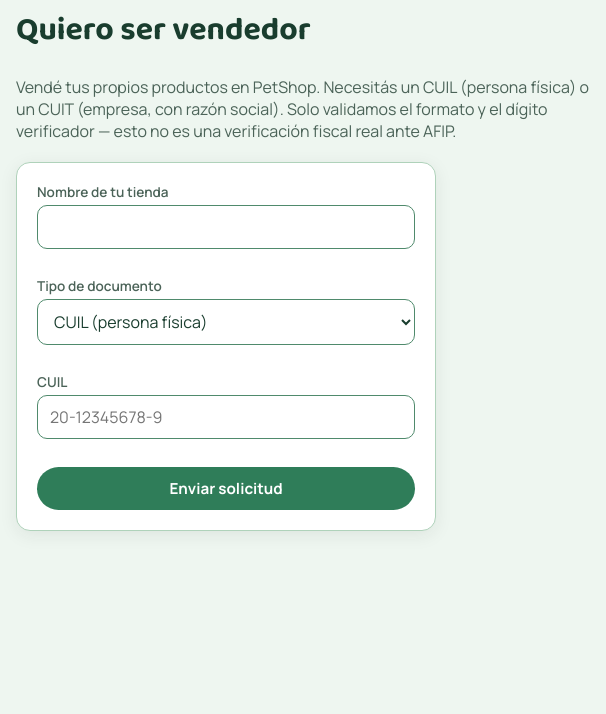
Test case: SolicitudVendedor › si el backend rechaza (CUIL inválido), muestra el error sin navegar
The width and height of the screenshot is (606, 714).
Step 1. Type "Tienda de Ana" into the field labelled "Nombre de tu tienda" → [226, 227], box [37,205,415,249]
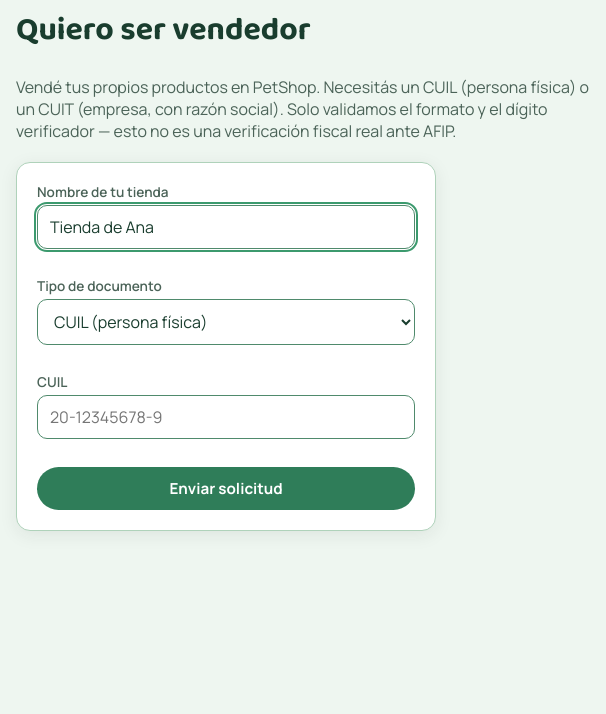
Step 2. Type "123" into the field labelled "CUIL" → [226, 417], box [37,395,415,439]
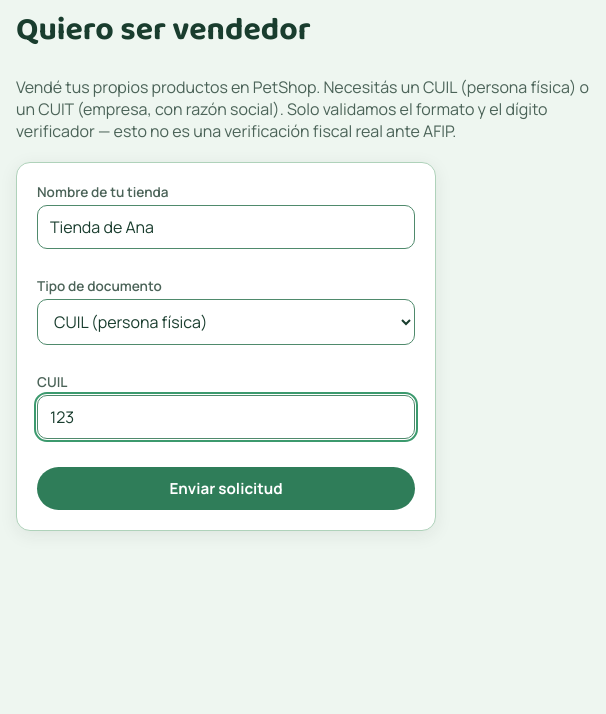
Step 3. Click the button "Enviar solicitud" → [226, 488], box [37,467,415,510]
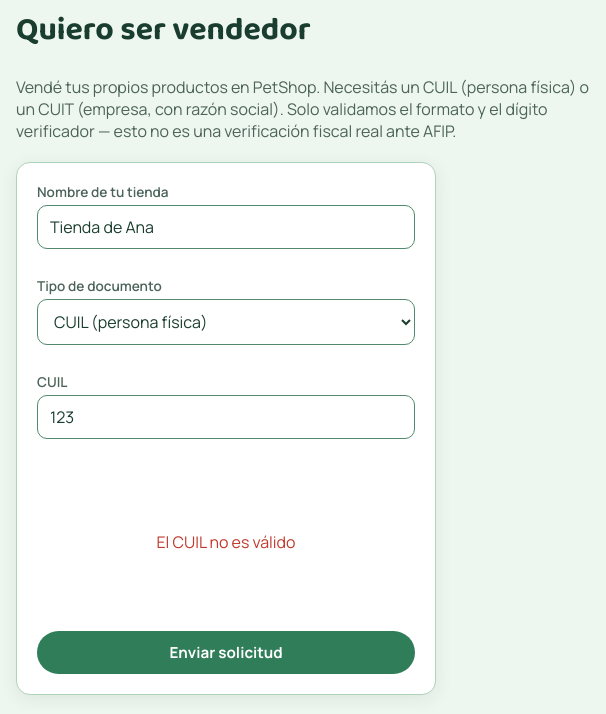
Result: the text "El CUIL no es válido" is shown at [156,531,296,553]
